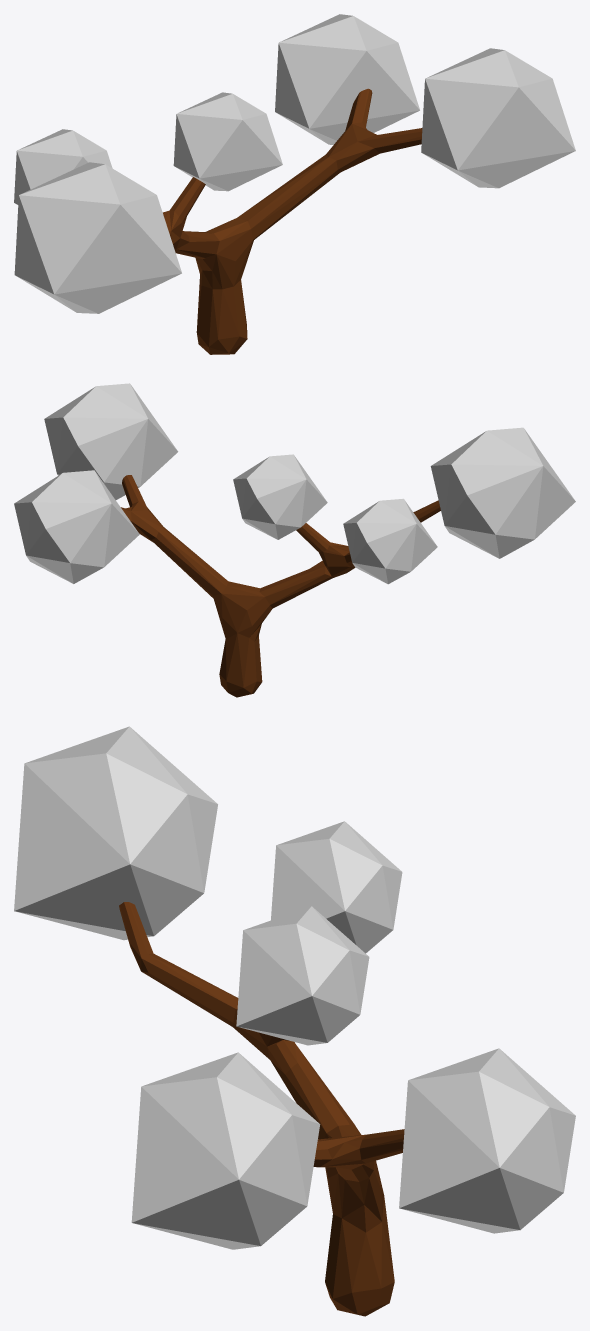
Rendered from Tree4.fbx.
3 views of the same model, one above another, from view 1: azimuth 30°, elevation 25°; view 2: azimuth 150°, elevation 25°; view 3: azimuth 270°, elevation 25° (orthographic). The views are drawn at different scales.
Visible parts, largest first — view 1: Icosphere, Icosphere.003, Cube, Icosphere.004, Icosphere.002, Icosphere.001; view 2: Icosphere, Cube, Icosphere.003, Icosphere.004, Icosphere.002, Icosphere.001; view 3: Icosphere, Icosphere.003, Icosphere.004, Cube, Icosphere.002, Icosphere.001.
Part boxes in pixels (box(x1,y1,x2,y2)): Icosphere: box(14, 162, 181, 313); Icosphere.003: box(421, 48, 575, 188); Cube: box(163, 88, 422, 354); Icosphere.004: box(275, 14, 419, 144); Icosphere.002: box(173, 92, 282, 191); Icosphere.001: box(14, 129, 112, 204); Icosphere: box(430, 427, 575, 558); Cube: box(121, 475, 440, 697); Icosphere.003: box(44, 383, 178, 499); Icosphere.004: box(14, 470, 139, 583); Icosphere.002: box(233, 454, 327, 539); Icosphere.001: box(343, 498, 437, 584); Icosphere: box(14, 726, 217, 940); Icosphere.003: box(131, 1052, 320, 1249); Icosphere.004: box(399, 1048, 575, 1233); Cube: box(119, 902, 404, 1316); Icosphere.002: box(236, 906, 369, 1045); Icosphere.001: box(271, 821, 402, 953).
Size of the model in its own units: 1093 by 558 by 678.
